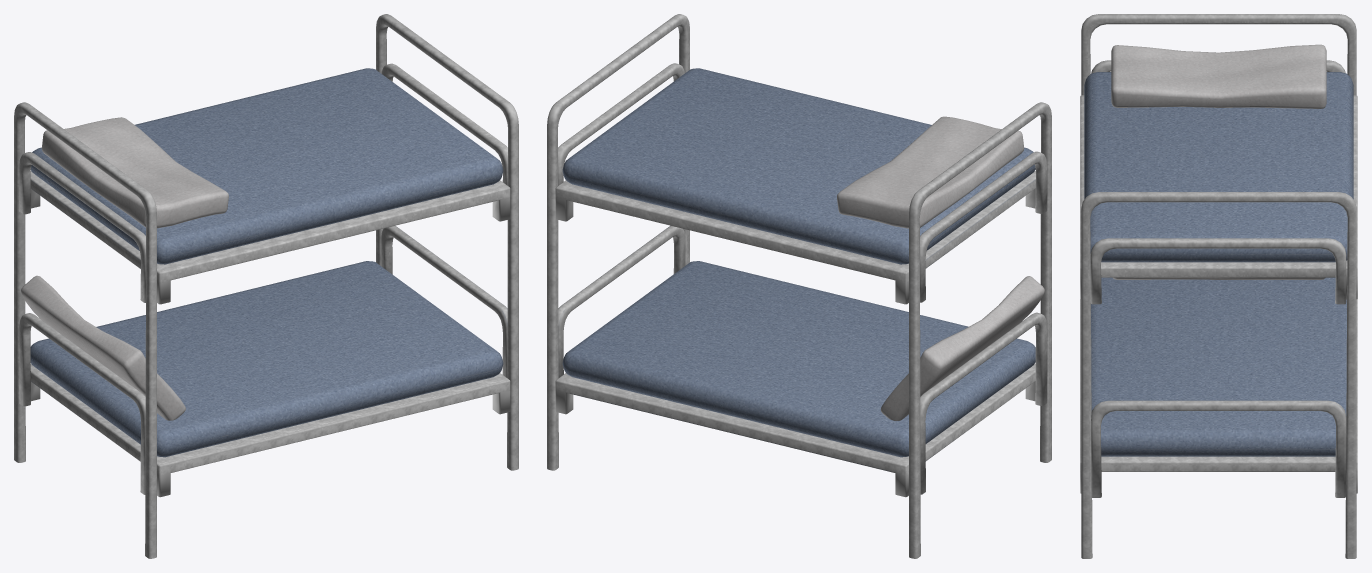
The model's file is Bed.obj.
3 renders of one model, left to right at view 1: azimuth 30°, elevation 25°; view 2: azimuth 150°, elevation 25°; view 3: azimuth 270°, elevation 25°, orthographic.
Parts seen in each view (by area): view 1: Cube, Cube.002, Cube.001; view 2: Cube, Cube.002, Cube.001; view 3: Cube, Cube.002, Cube.001.
Part boxes in pixels (x1=…): Cube: x1=14, y1=14, x2=518, y2=558; Cube.002: x1=41, y1=117, x2=228, y2=228; Cube.001: x1=21, y1=275, x2=185, y2=420; Cube: x1=547, y1=14, x2=1051, y2=558; Cube.002: x1=837, y1=116, x2=1024, y2=228; Cube.001: x1=880, y1=276, x2=1044, y2=420; Cube: x1=1080, y1=14, x2=1357, y2=558; Cube.002: x1=1111, y1=44, x2=1326, y2=108; Cube.001: x1=1113, y1=277, x2=1325, y2=279.
Bounding box in the file's own units: 1.85 × 1.68 × 1.16.
